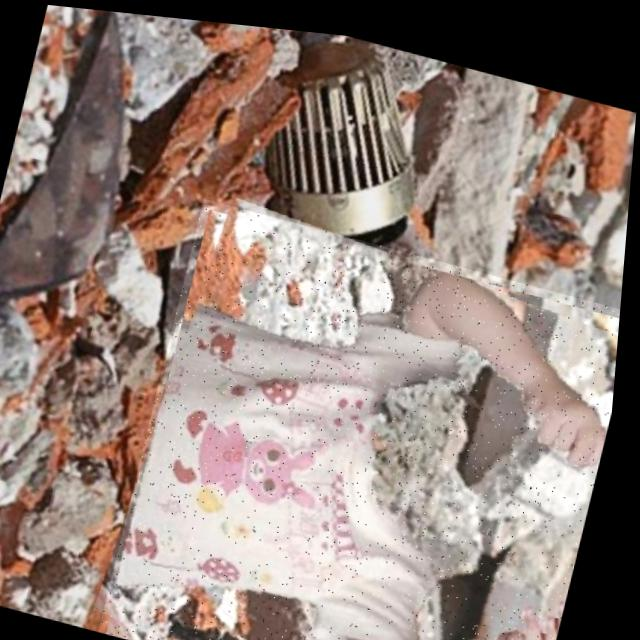Person in Rubble: (106, 188, 629, 640)
